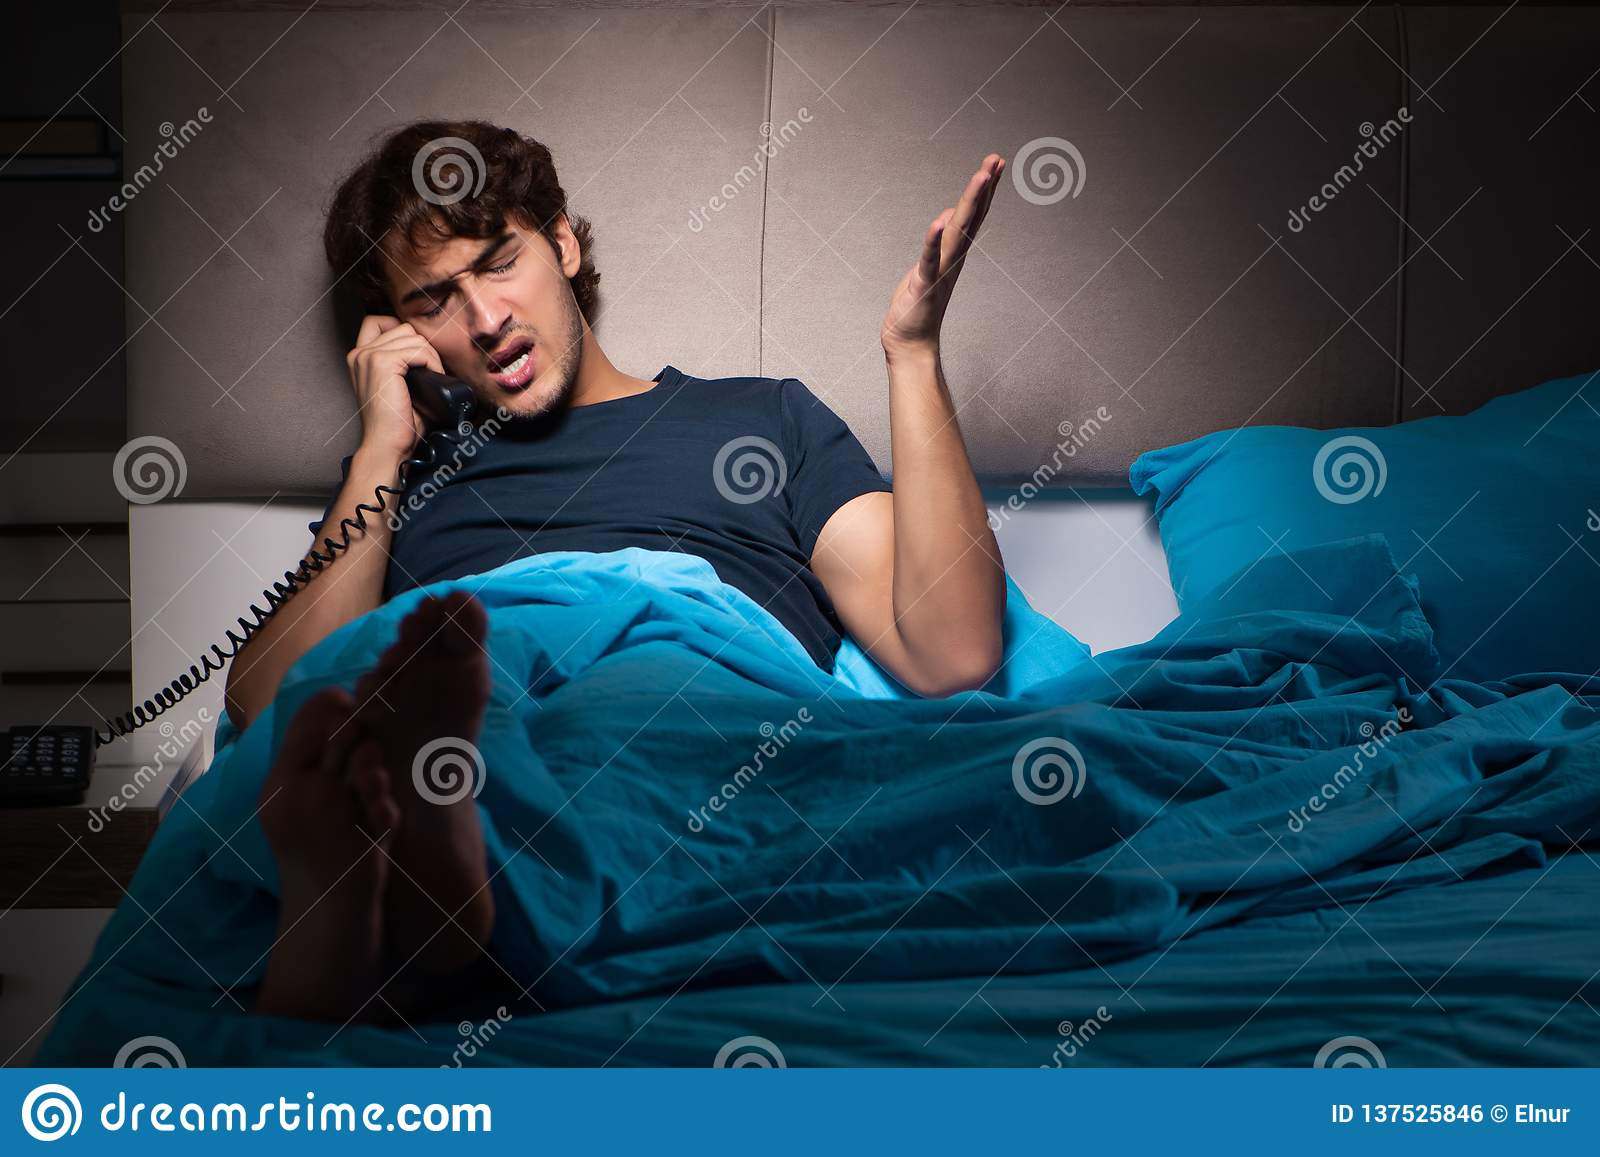phone: (363, 304, 458, 434)
talk: (343, 231, 574, 445)
